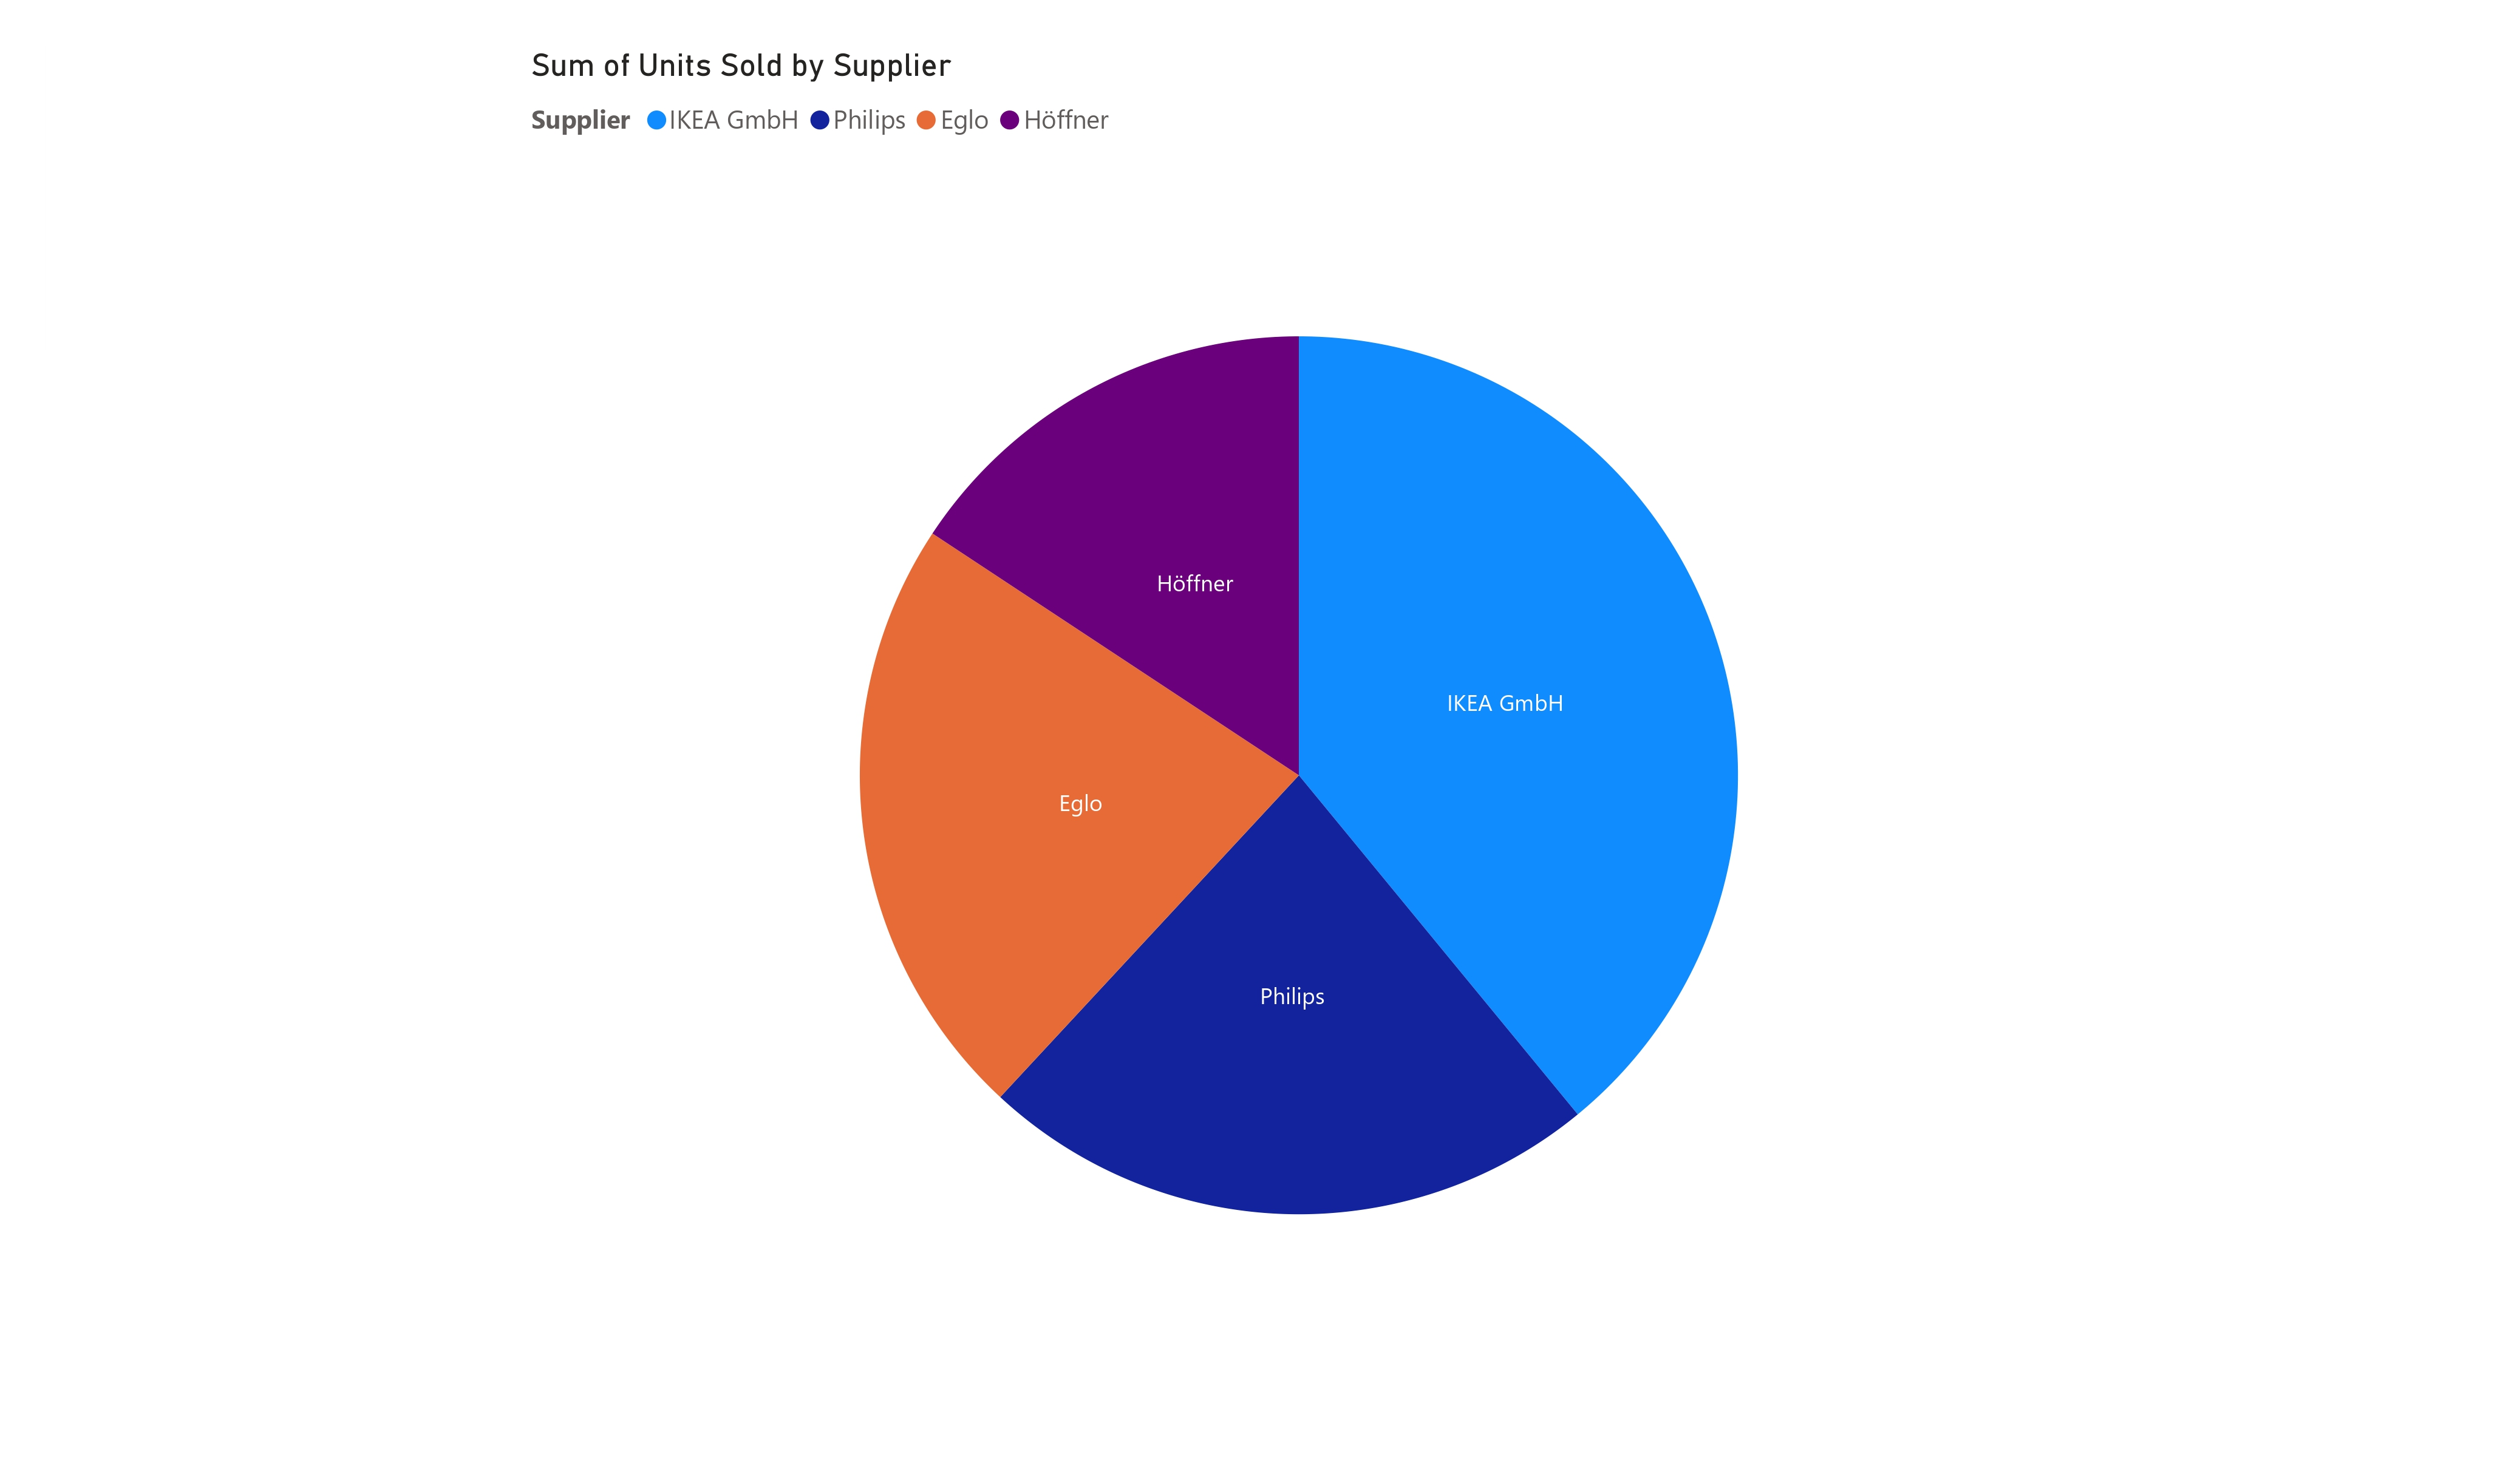

Layout of this report page (visuals, bound fields, positions):
{"tool":"powerbi","page":{"name":"Page 1","canvas":[1280,720],"ordinal":0},"visuals":[{"type":"pieChart","fields":{"Category":["Sheet1.Supplier"],"Y":["Sum(Sheet1.Units Sold)"]},"box":[251.3,0,818.3,720],"z":0}]}

Visuals, with their boxes on the page's 1280x720 design canvas (x1, y1, x2, y2). These are canvas units, not pixel positions in the 2520x1457 screenshot, which may show the page scaled, cropped or inside an application window:
pieChart - Sheet1.Supplier x Sum(Sheet1.Units Sold): locate(251, 0, 1070, 720)
